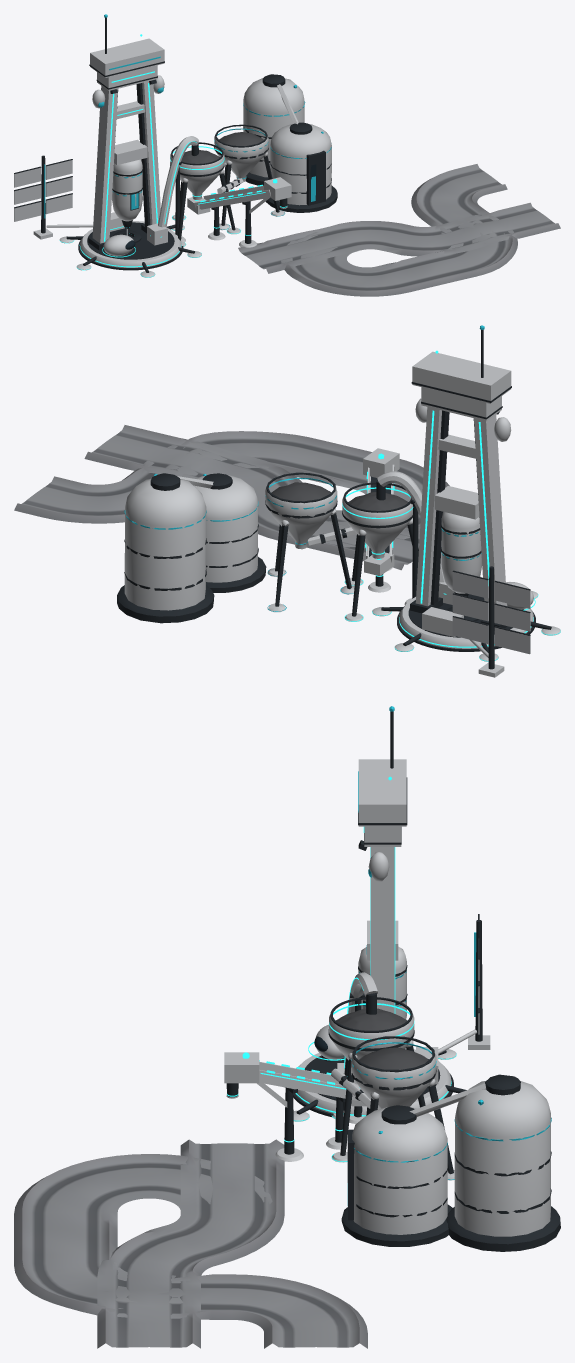
The model's file is mine_219e774.glb.
3 renders of one model, top to bottom at view 1: azimuth 30°, elevation 25°; view 2: azimuth 150°, elevation 25°; view 3: azimuth 270°, elevation 25°, orthographic. The views are drawn at different scales.
Parts seen in each view (by area): view 1: Base_Paint, Silo, Tier_12, Tier_08, Tier_05, Tier_20, Rig, Base_GlowCyan; view 2: Base_Paint, Tier_12, Silo, Tier_08, Tier_05, Tier_20, Rig, Base_GlowCyan; view 3: Base_Paint, Tier_12, Silo, Tier_05, Tier_20, Tier_08, Rig, Base_GlowCyan.
Part boxes in pixels (x1,y1,x2,y2): Base_Paint: (59,65,560,296); Silo: (265,122,337,212); Tier_12: (243,74,305,185); Tier_08: (14,155,93,239); Tier_05: (214,124,285,230); Tier_20: (89,14,164,108); Rig: (112,139,147,235); Base_GlowCyan: (59,34,286,277); Base_Paint: (14,387,560,661); Tier_12: (117,473,214,623); Silo: (194,473,266,592); Tier_08: (452,566,530,677); Tier_05: (265,472,356,612); Tier_20: (411,325,511,441); Rig: (434,486,482,596); Base_GlowCyan: (342,350,560,661); Base_Paint: (14,826,466,1348); Tier_12: (409,1074,560,1251); Silo: (341,1105,452,1246); Tier_05: (331,1036,454,1180); Tier_20: (358,706,407,881); Tier_08: (438,914,490,1054); Rig: (358,920,407,1019); Base_GlowCyan: (227,776,456,1161).
Bounding box in the file's own units: 41.55 × 22 × 29.52.
